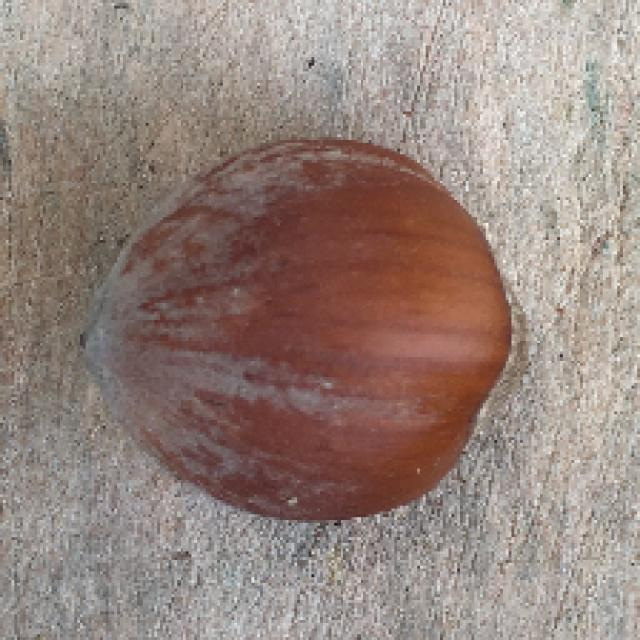qualityHazelnut: (66, 132, 530, 526)
